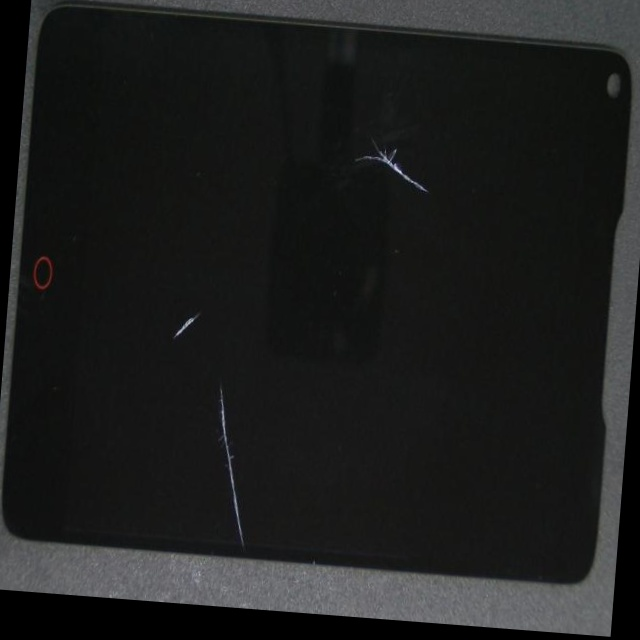scratch: (104, 99, 290, 473), (143, 350, 382, 618), (245, 52, 590, 236)
